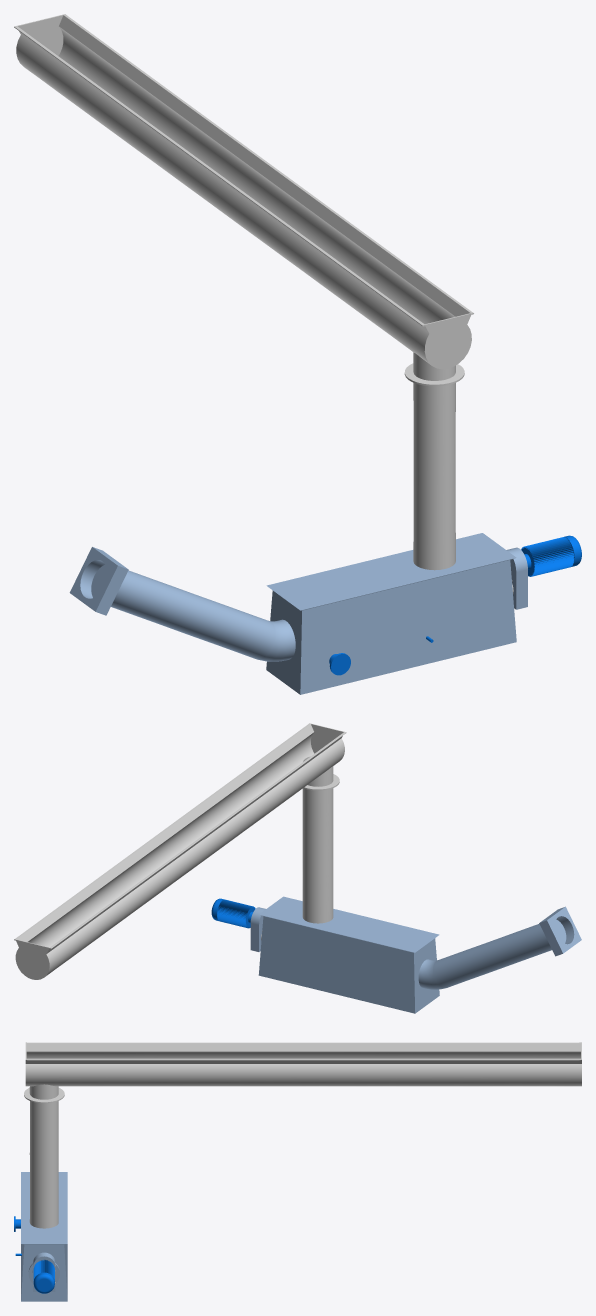
The model's file is drain-screw-press.gltf.
3 renders of one model, top to bottom at view 1: azimuth 30°, elevation 25°; view 2: azimuth 150°, elevation 25°; view 3: azimuth 270°, elevation 25°, orthographic. The views are drawn at different scales.
Parts seen in each view (by area): view 1: 连接的实心几何图形 [216442], 融合 [216445], 放样 [216471], 融合 [216458], 拉伸 [216486], 拉伸 [216412], 拉伸 [216757], 拉伸 [216421], 拉伸 [216554]; view 2: 连接的实心几何图形 [216442], 融合 [216445], 放样 [216471], 融合 [216458], 拉伸 [216486], 拉伸 [216421], 拉伸 [216757], 拉伸 [216412], 拉伸 [216554]; view 3: 连接的实心几何图形 [216442], 融合 [216458], 融合 [216445], 旋转 [217083].
Part boxes in pixels (x1,y1,x2,y2): 连接的实心几何图形 [216442]: [14, 14, 473, 570]; 融合 [216445]: [266, 560, 516, 694]; 放样 [216471]: [91, 565, 295, 661]; 融合 [216458]: [266, 533, 516, 610]; 拉伸 [216486]: [69, 547, 128, 615]; 拉伸 [216412]: [425, 313, 471, 368]; 拉伸 [216757]: [521, 537, 574, 576]; 拉伸 [216421]: [17, 14, 63, 55]; 拉伸 [216554]: [506, 547, 527, 609]; 连接的实心几何图形 [216442]: [14, 723, 346, 979]; 融合 [216445]: [258, 916, 439, 1013]; 放样 [216471]: [418, 919, 566, 989]; 融合 [216458]: [259, 896, 439, 952]; 拉伸 [216486]: [539, 906, 581, 956]; 拉伸 [216421]: [16, 939, 49, 979]; 拉伸 [216757]: [217, 899, 255, 928]; 拉伸 [216412]: [311, 723, 343, 753]; 拉伸 [216554]: [250, 907, 265, 951]; 连接的实心几何图形 [216442]: [24, 1042, 581, 1228]; 融合 [216458]: [21, 1172, 67, 1244]; 融合 [216445]: [21, 1244, 67, 1301]; 旋转 [217083]: [33, 1272, 54, 1293].
Bounding box in the file's own units: 4.17 × 2.72 × 6.11.
